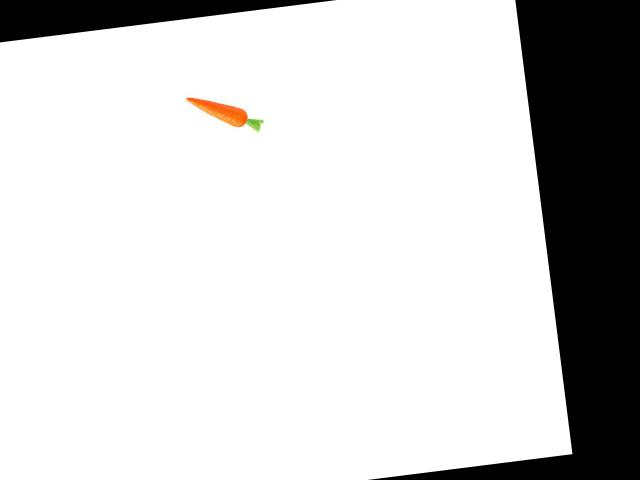carrot: (183, 85, 256, 133)
